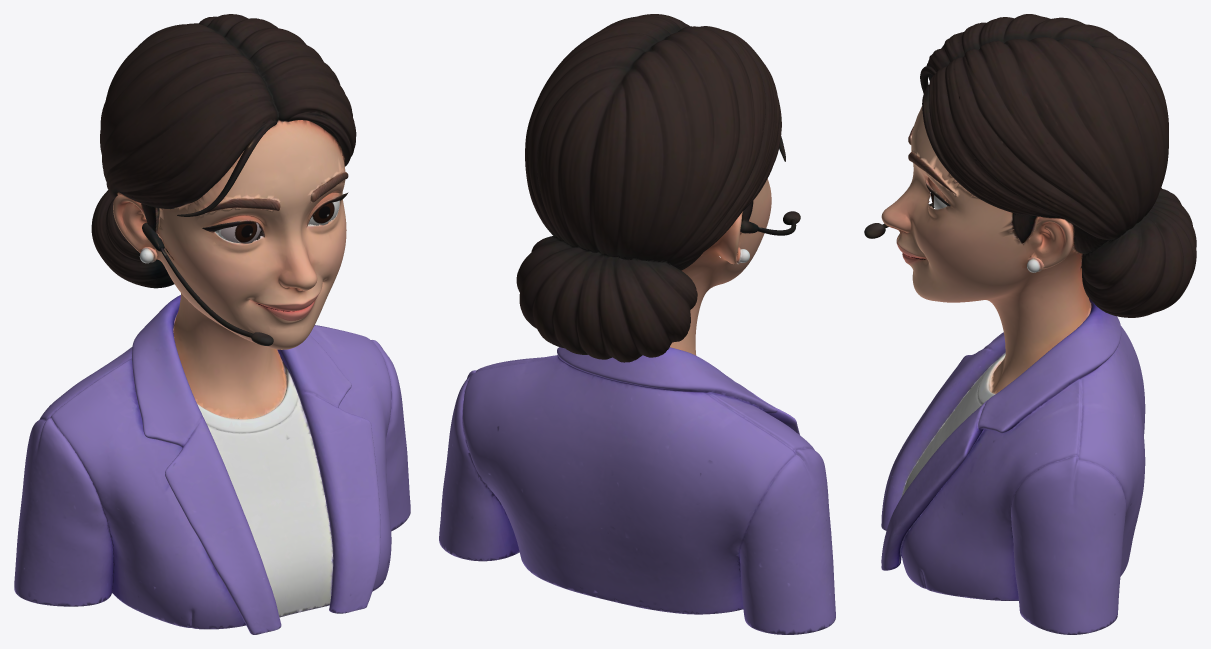
Rendered from aysu.glb.
3 renders of one model, left to right at view 1: azimuth 30°, elevation 25°; view 2: azimuth 150°, elevation 25°; view 3: azimuth 270°, elevation 25°, orthographic. The views are drawn at different scales.
Parts seen in each view (by area): view 1: Maryam, EyeLeft; view 2: Maryam; view 3: Maryam.
Part boxes in pixels (x1,y1,x2,y2): Maryam: (14, 14, 410, 634); EyeLeft: (220, 222, 260, 243); Maryam: (439, 14, 835, 634); Maryam: (864, 14, 1196, 634).
Size of what is drawn, in the model's own units: 0.7478 by 0.9795 by 0.5757.
4 materials, 3 textured.
